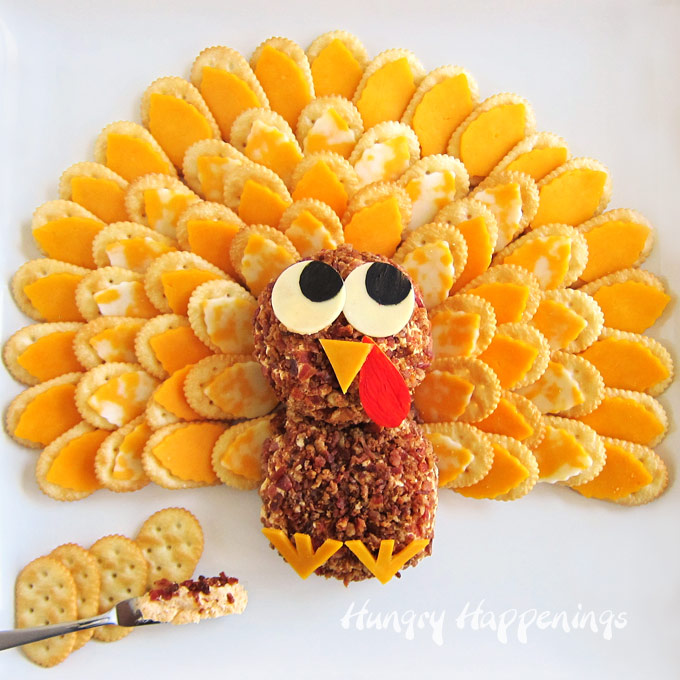cheese: (63, 279, 224, 455), (488, 121, 599, 305), (463, 363, 585, 484), (188, 42, 277, 158), (348, 52, 440, 160)
